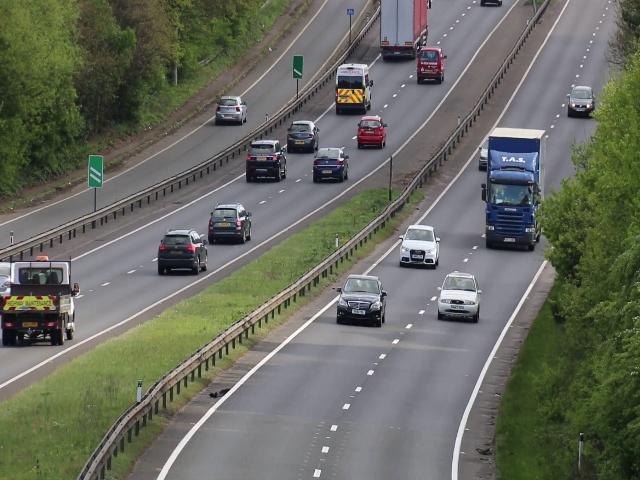car: (1, 254, 80, 348), (486, 156, 537, 253), (338, 271, 384, 327), (159, 229, 208, 280), (436, 270, 483, 323), (331, 63, 375, 114), (204, 201, 254, 245), (243, 138, 288, 181), (398, 224, 439, 268), (313, 146, 348, 181), (283, 119, 319, 153), (414, 46, 446, 84), (357, 115, 387, 149), (567, 84, 596, 117), (215, 95, 247, 124)
